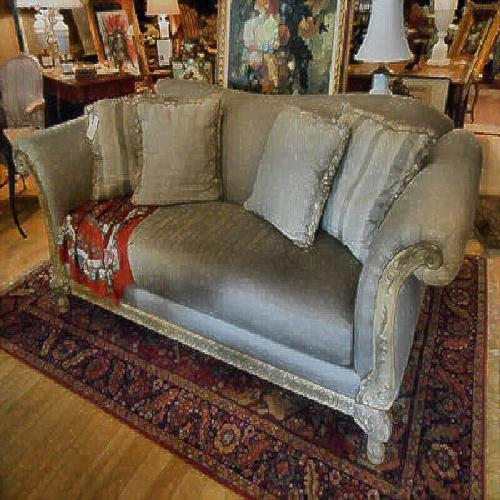sofa: (39, 80, 485, 400)
